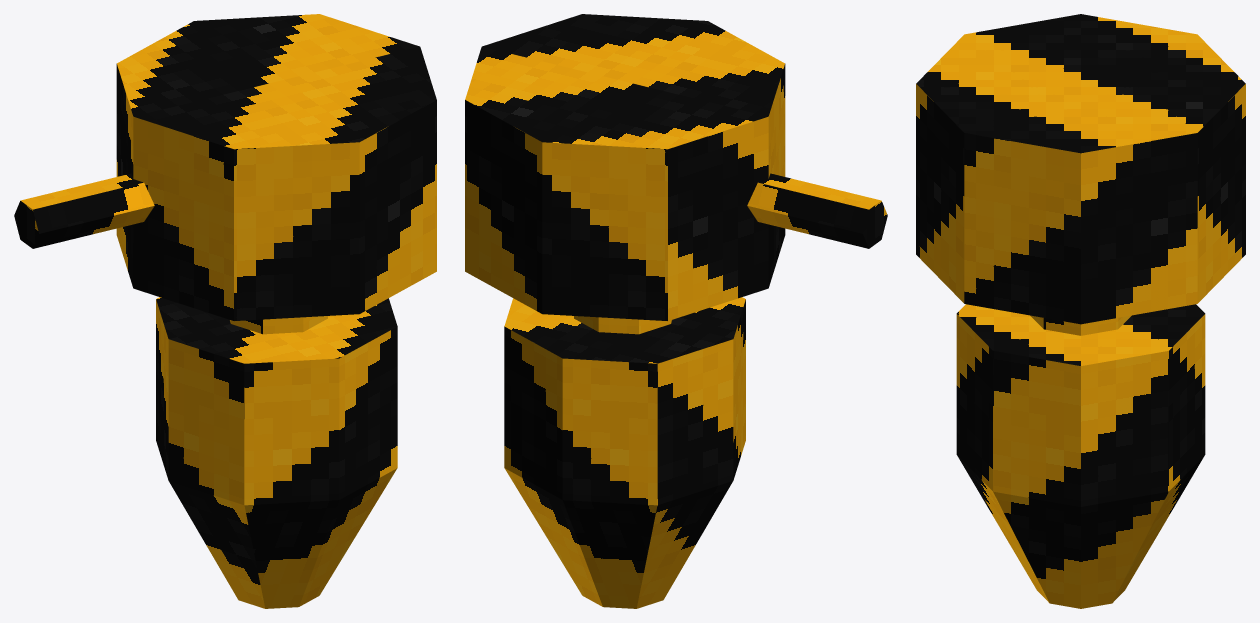
The model's file is robot.glb.
3 renders of one model, left to right at view 1: azimuth 30°, elevation 25°; view 2: azimuth 150°, elevation 25°; view 3: azimuth 270°, elevation 25°, orthographic.
Visible parts, largest first — view 1: Cylinder; view 2: Cylinder; view 3: Cylinder.
Part boxes in pixels (x1,y1,x2,y2): Cylinder: (14, 14, 436, 608); Cylinder: (465, 14, 887, 608); Cylinder: (916, 14, 1245, 608).
Size of the model in its own units: 1.53 by 1.9 by 1.12.
1 material, 1 textured.
